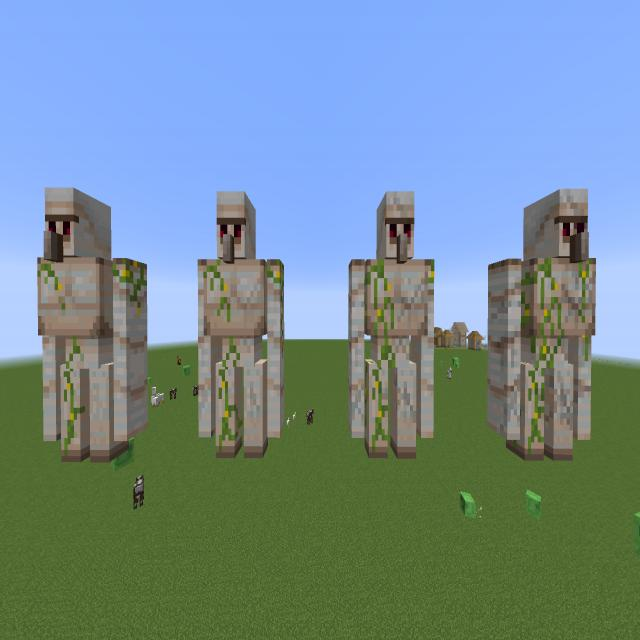Iron Golem: (34, 178, 150, 474), (485, 181, 599, 468), (192, 178, 287, 461), (348, 175, 436, 467)
